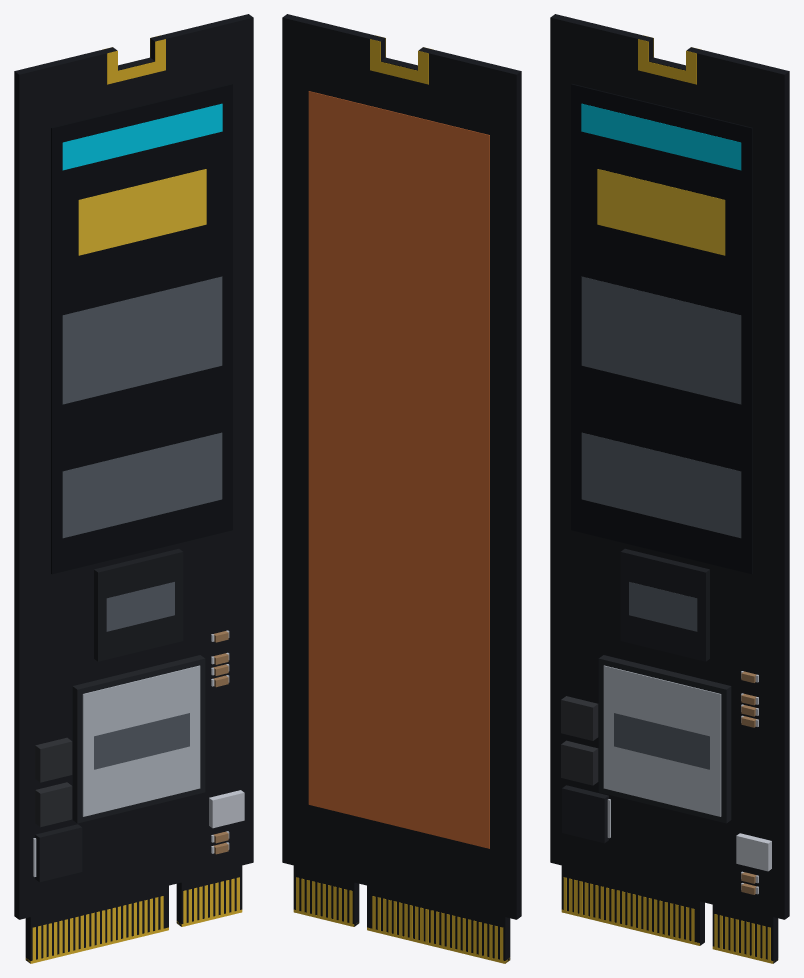
The model's file is SSD_M2_2TB_NVME_PCIE4_LAPTOP.obj.
3 views of the same model, side by side, from view 1: azimuth 30°, elevation 25°; view 2: azimuth 150°, elevation 25°; view 3: azimuth 330°, elevation 25° (orthographic).
Bounding box in the file's own units: 22 × 80 × 1.85.
